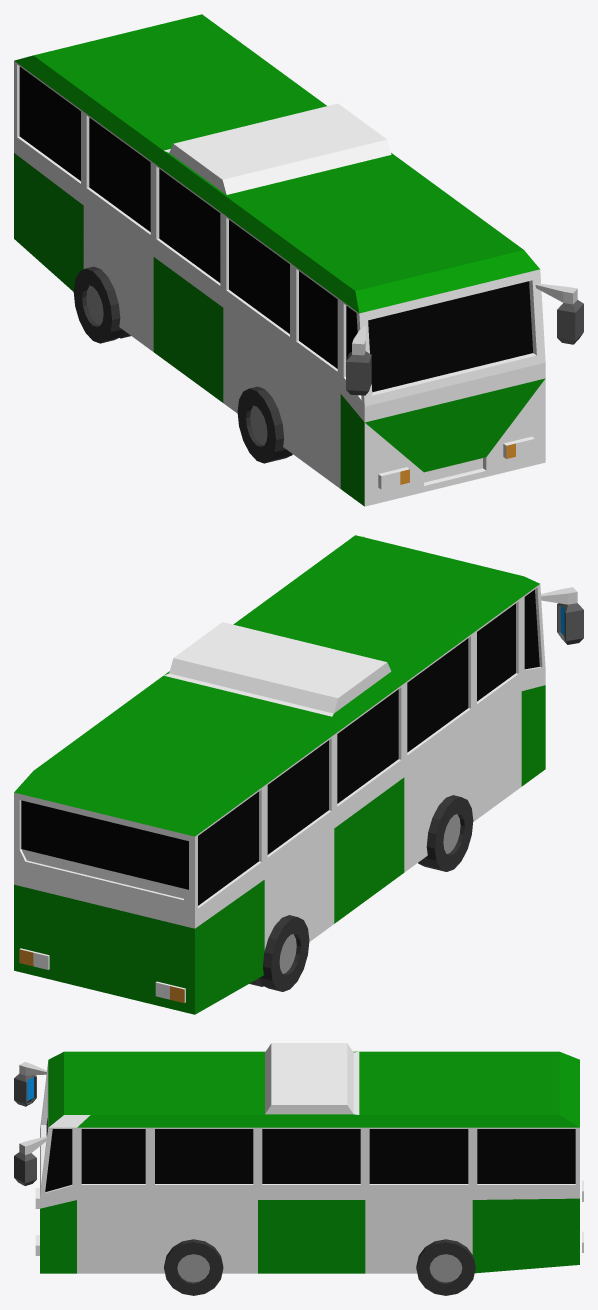
File: EV_CAR.glb
The picture shows the model from 3 angles, top to bottom: view 1: azimuth 30°, elevation 25°; view 2: azimuth 150°, elevation 25°; view 3: azimuth 270°, elevation 25°; orthographic projection. The views are drawn at different scales.
Parts seen in each view (by area): view 1: car, window, wheel4, wheel2; view 2: car, wheel4, wheel2, window; view 3: car, wheel3, wheel1, window.
Part boxes in pixels (left/top/right/bottom): car: left=14, top=14, right=545, bottom=506; window: left=346, top=284, right=583, bottom=395; wheel4: left=73, top=266, right=130, bottom=343; wheel2: left=237, top=386, right=292, bottom=463; car: left=14, top=535, right=545, bottom=1014; wheel4: left=249, top=915, right=309, bottom=991; wheel2: left=418, top=795, right=473, bottom=871; window: left=352, top=536, right=583, bottom=644; car: left=35, top=1043, right=583, bottom=1273; wheel3: left=416, top=1239, right=475, bottom=1295; wheel1: left=164, top=1239, right=223, bottom=1295; window: left=14, top=1062, right=46, bottom=1185.
Bounding box in the file's own units: 1.56 × 1.51 × 4.21.
